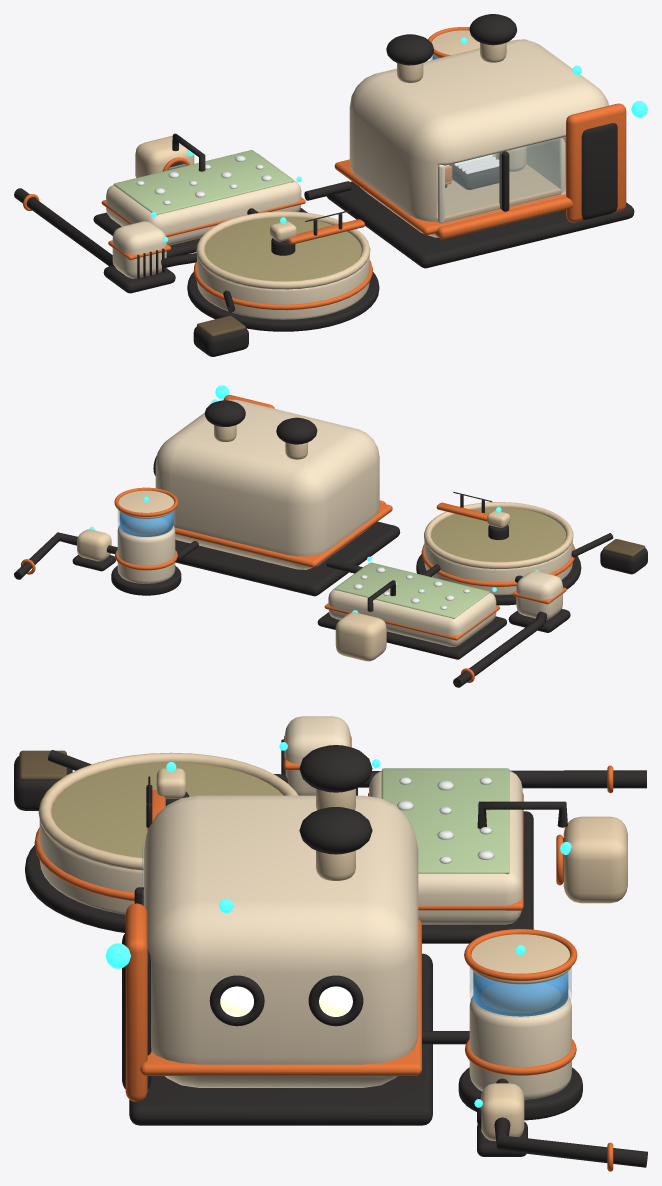
The model's file is pstation.glb.
The picture shows the model from 3 angles, top to bottom: view 1: azimuth 30°, elevation 25°; view 2: azimuth 150°, elevation 25°; view 3: azimuth 270°, elevation 25°; orthographic projection. The views are drawn at different scales.
Parts seen in each view (by area): view 1: Cube.001, Cube, Cube.018, Cylinder.009, Cube.040, Cube.038, Cylinder.008, Cube.022, Cube.023, Cube.003, Torus.004, Cylinder.007 (+18 smaller); view 2: Cube.001, Cube, Cylinder.009, Cube.038, Cube.040, Cylinder.015, Cylinder.008, Torus.004, Cube.041, Cube.037, Cube.030, Cube.021 (+16 smaller); view 3: Cube.001, Cube, Cube.040, Cylinder.009, Cylinder.015, Cube.038, Cube.041, Torus.004, Cube.021, Cube.022, Cylinder.008, Cylinder.018 (+28 smaller).
Boxes of the visible parts, x1=… form: Cube.001: x1=349, y1=39, x2=608, y2=237; Cube: x1=326, y1=181, x2=634, y2=268; Cube.018: x1=441, y1=137, x2=565, y2=224; Cylinder.009: x1=205, y1=217, x2=361, y2=281; Cube.040: x1=113, y1=150, x2=293, y2=214; Cube.038: x1=106, y1=153, x2=301, y2=245; Cylinder.008: x1=197, y1=255, x2=369, y2=319; Cube.022: x1=566, y1=103, x2=626, y2=222; Cube.023: x1=581, y1=123, x2=617, y2=220; Cube.003: x1=444, y1=164, x2=562, y2=222; Torus.004: x1=196, y1=211, x2=370, y2=289; Cylinder.007: x1=187, y1=271, x2=379, y2=331; Cube.001: x1=155, y1=399, x2=379, y2=569; Cube: x1=175, y1=521, x2=400, y2=596; Cylinder.009: x1=431, y1=507, x2=565, y2=561; Cube.038: x1=328, y1=565, x2=496, y2=646; Cube.040: x1=335, y1=562, x2=489, y2=618; Cylinder.015: x1=117, y1=518, x2=175, y2=583; Cylinder.008: x1=424, y1=540, x2=572, y2=595; Torus.004: x1=424, y1=502, x2=573, y2=569; Cube.041: x1=335, y1=612, x2=386, y2=661; Cube.037: x1=317, y1=612, x2=506, y2=659; Cube.030: x1=516, y1=571, x2=562, y2=619; Cube.021: x1=174, y1=502, x2=392, y2=567; Cube.001: x1=144, y1=795, x2=418, y2=1087; Cube: x1=129, y1=953, x2=432, y2=1125; Cube.040: x1=381, y1=768, x2=509, y2=874; Cylinder.009: x1=51, y1=762, x2=283, y2=857; Cylinder.015: x1=469, y1=983, x2=571, y2=1099; Cube.038: x1=369, y1=771, x2=522, y2=924; Cube.041: x1=563, y1=816, x2=627, y2=903; Torus.004: x1=38, y1=752, x2=298, y2=870; Cube.021: x1=140, y1=919, x2=421, y2=1075; Cube.022: x1=125, y1=903, x2=147, y2=1101; Cylinder.008: x1=39, y1=820, x2=143, y2=914; Cylinder.018: x1=470, y1=934, x2=571, y2=984.
Bounding box in the file's own units: 2.58 × 0.785 × 1.73.
